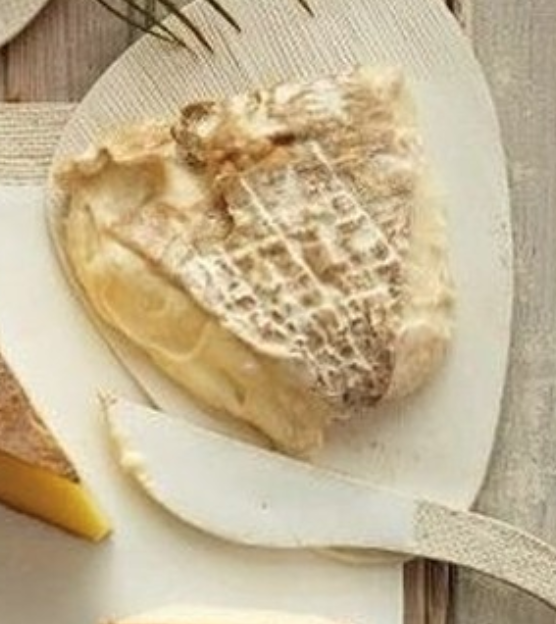camembert: (53, 64, 458, 467)
